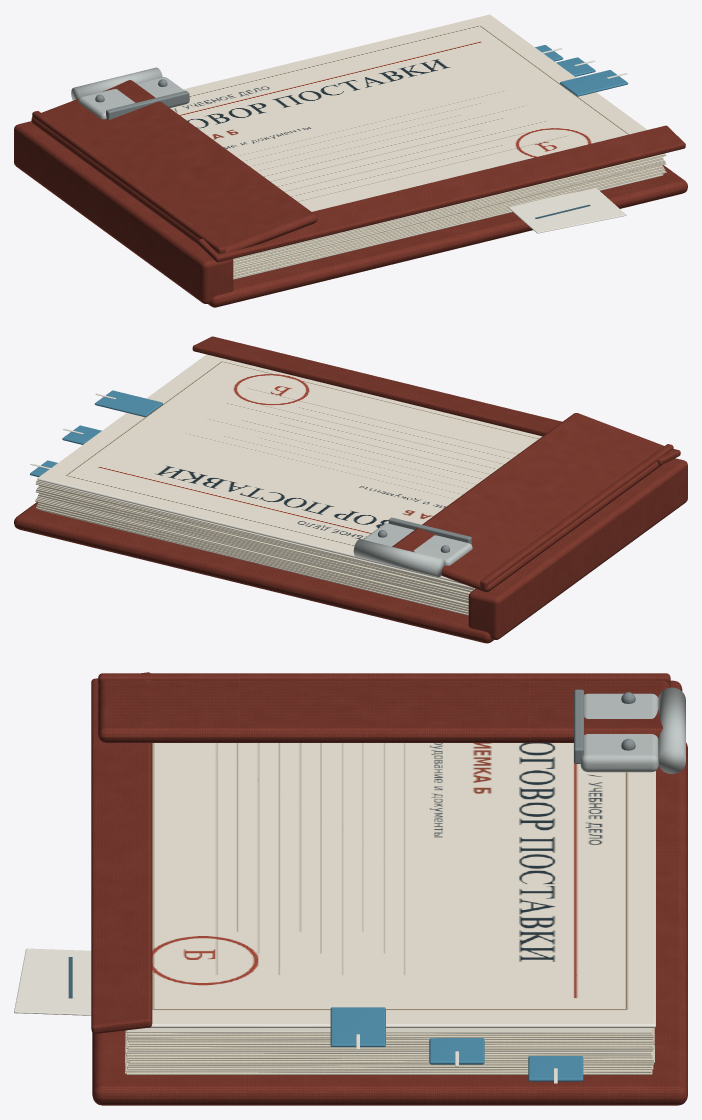
The model's file is supply-dossier.glb.
3 renders of one model, top to bottom at view 1: azimuth 30°, elevation 25°; view 2: azimuth 150°, elevation 25°; view 3: azimuth 270°, elevation 25°, orthographic. The views are drawn at different scales.
Parts seen in each view (by area): view 1: Document · ДОГОВОР ПОСТАВКИ, Open linen half-cover, Creased linen fold, Foldover front pocket, Terracotta portfolio back, Loose receipt, Left hinge seam, Steel document clip, Blue index tab 3, Clip spring axle, Acceptance leaf 08, Acceptance leaf 10 (+15 smaller); view 2: Document · ДОГОВОР ПОСТАВКИ, Open linen half-cover, Creased linen fold, Terracotta portfolio back, Foldover front pocket, Left hinge seam, Clip spring axle, Steel document clip, Contract leaf surface, Acceptance leaf 09, Acceptance leaf 18, Acceptance leaf 23 (+22 smaller); view 3: Document · ДОГОВОР ПОСТАВКИ, Open linen half-cover, Terracotta portfolio back, Foldover front pocket, Loose receipt, Steel document clip, Left hinge seam, Acceptance leaf 23, Contract leaf surface, Blue index tab 3, Clip spring axle, Acceptance leaf 04 (+20 smaller).
Part boxes in pixels (x1=…): Document · ДОГОВОР ПОСТАВКИ: x1=170, y1=14, x2=647, y2=211; Open linen half-cover: x1=31, y1=80, x2=317, y2=253; Creased linen fold: x1=14, y1=121, x2=233, y2=303; Foldover front pocket: x1=198, y1=125, x2=685, y2=262; Terracotta portfolio back: x1=208, y1=165, x2=687, y2=307; Loose receipt: x1=508, y1=188, x2=626, y2=233; Left hinge seam: x1=32, y1=111, x2=225, y2=254; Steel document clip: x1=78, y1=77, x2=189, y2=119; Blue index tab 3: x1=560, y1=70, x2=628, y2=96; Clip spring axle: x1=71, y1=67, x2=162, y2=100; Acceptance leaf 08: x1=233, y1=163, x2=666, y2=270; Acceptance leaf 10: x1=233, y1=161, x2=665, y2=268; Document · ДОГОВОР ПОСТАВКИ: x1=38, y1=354, x2=542, y2=576; Open linen half-cover: x1=392, y1=413, x2=673, y2=592; Creased linen fold: x1=468, y1=458, x2=687, y2=639; Terracotta portfolio back: x1=14, y1=502, x2=493, y2=643; Foldover front pocket: x1=192, y1=336, x2=680, y2=464; Left hinge seam: x1=480, y1=444, x2=673, y2=588; Clip spring axle: x1=353, y1=539, x2=445, y2=576; Steel document clip: x1=363, y1=523, x2=472, y2=565; Contract leaf surface: x1=37, y1=477, x2=463, y2=584; Acceptance leaf 09: x1=35, y1=498, x2=468, y2=605; Acceptance leaf 18: x1=37, y1=487, x2=470, y2=594; Acceptance leaf 23: x1=36, y1=480, x2=474, y2=588; Document · ДОГОВОР ПОСТАВКИ: x1=152, y1=743, x2=654, y2=1023; Open linen half-cover: x1=98, y1=680, x2=670, y2=742; Terracotta portfolio back: x1=92, y1=742, x2=687, y2=1105; Foldover front pocket: x1=91, y1=672, x2=152, y2=1033; Loose receipt: x1=14, y1=948, x2=91, y2=1015; Steel document clip: x1=580, y1=693, x2=658, y2=772; Left hinge seam: x1=98, y1=673, x2=670, y2=685; Acceptance leaf 23: x1=126, y1=1028, x2=651, y2=1033; Contract leaf surface: x1=148, y1=771, x2=655, y2=1027; Blue index tab 3: x1=330, y1=1007, x2=385, y2=1047; Clip spring axle: x1=658, y1=687, x2=685, y2=773; Acceptance leaf 04: x1=127, y1=1065, x2=653, y2=1070.
Bounding box in the file's own units: 3.07 × 0.4125 × 2.32.
9 materials, 3 textured.
